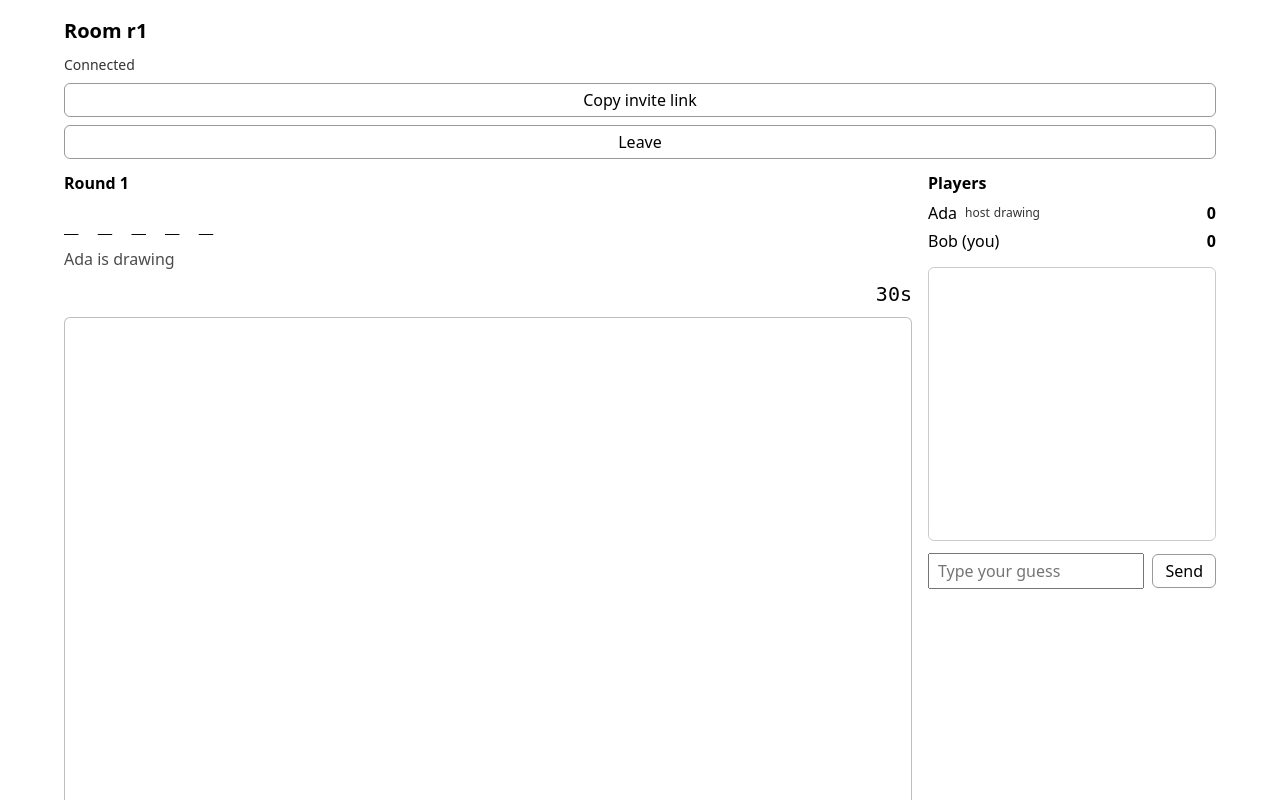
Test: Room › sends guesses and shows what the server decides
The width and height of the screenshot is (1280, 800).
expect the text named "Word" reads "_ _ _ _ _": met, box [64,207,216,235]
expect the text named "Time left" reads "30s": met, box [876,279,912,309]
In the field labelled "guess": {"x": 1036, "y": 571} [928,553,1144,589], type "  apple "
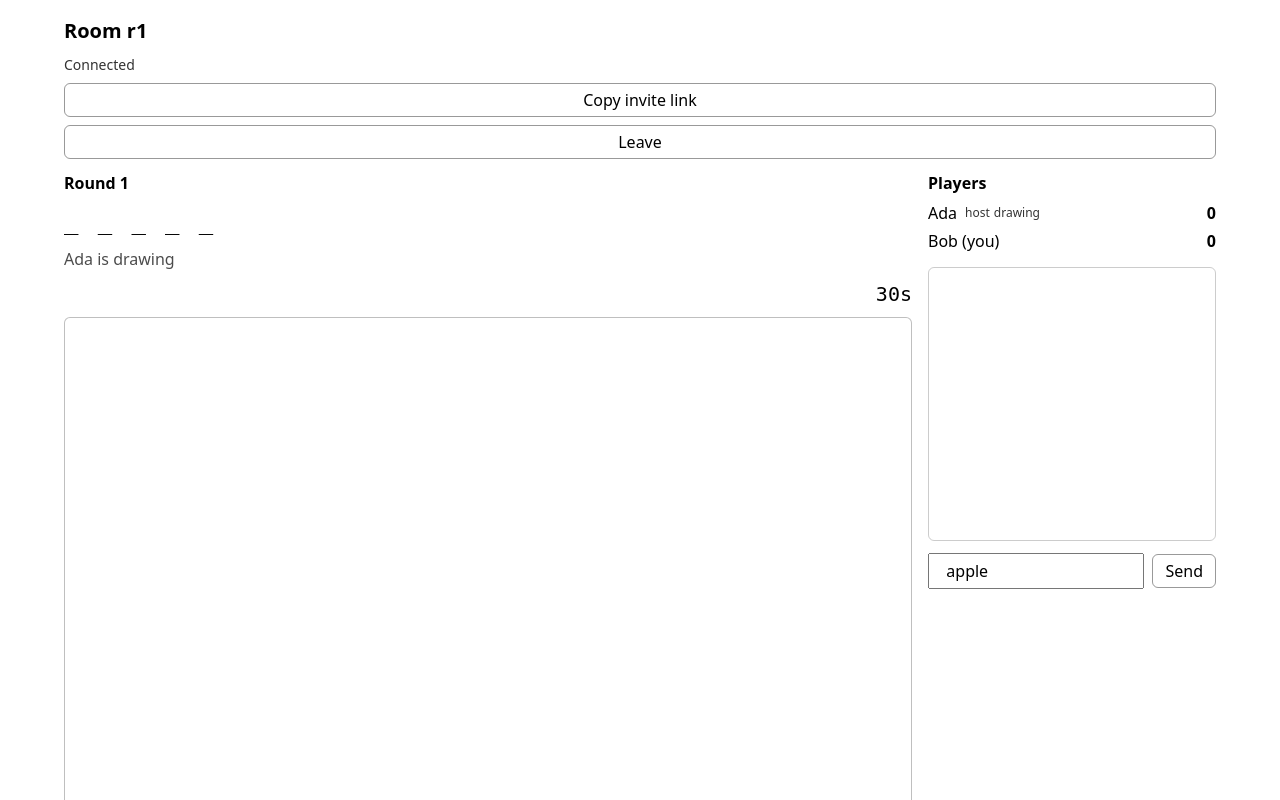
Submit the form, box [928,553,1216,589]
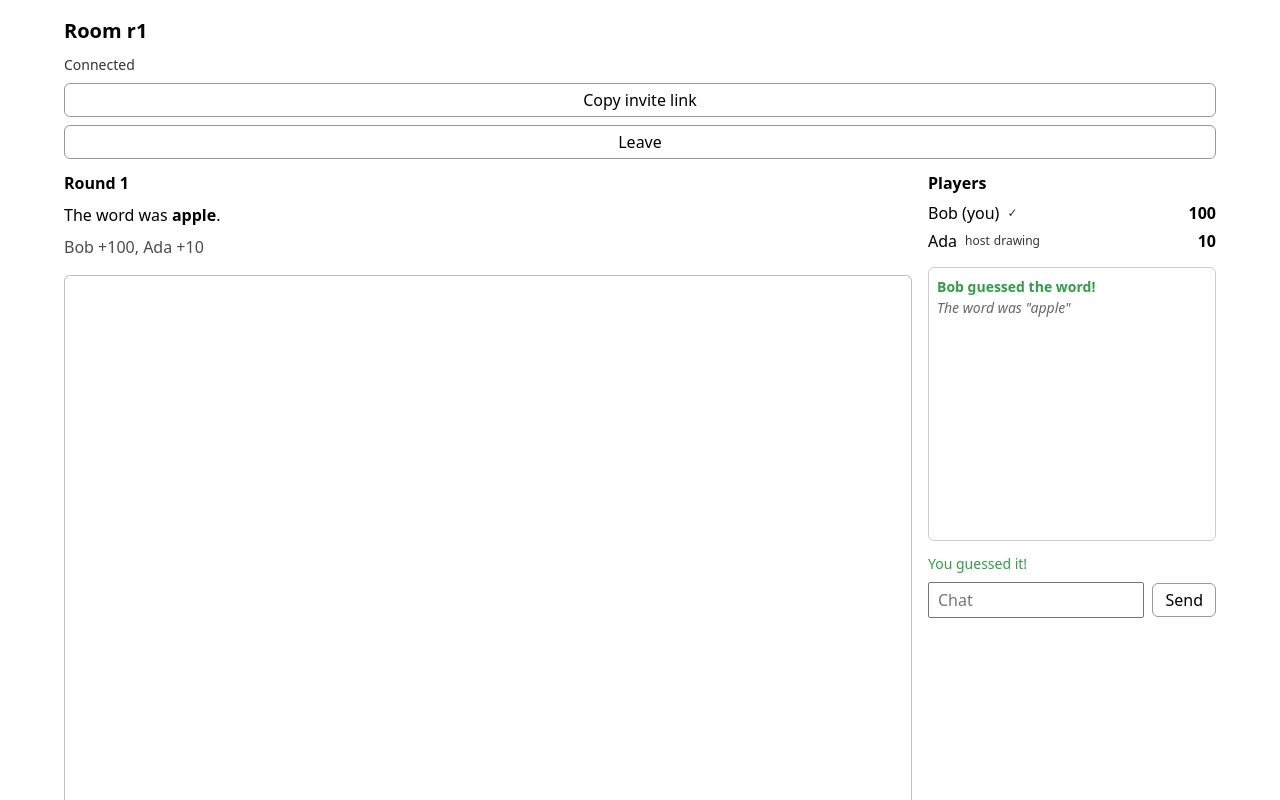
expect the field named "Guess" is empty: met, box [928,582,1144,618]
expect the list item "Bob guessed the word!" is shown: met, box [937,277,1095,296]
expect the text "You guessed it!" is shown: met, box [928,554,1027,573]
